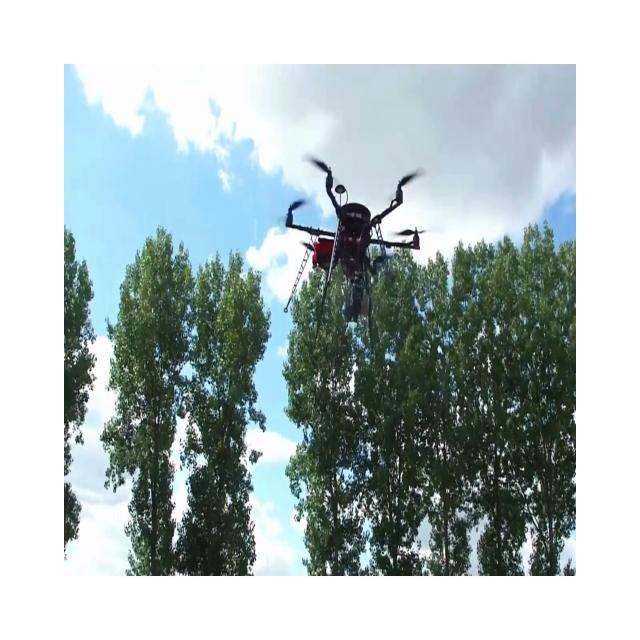drone: (283, 153, 426, 343)
